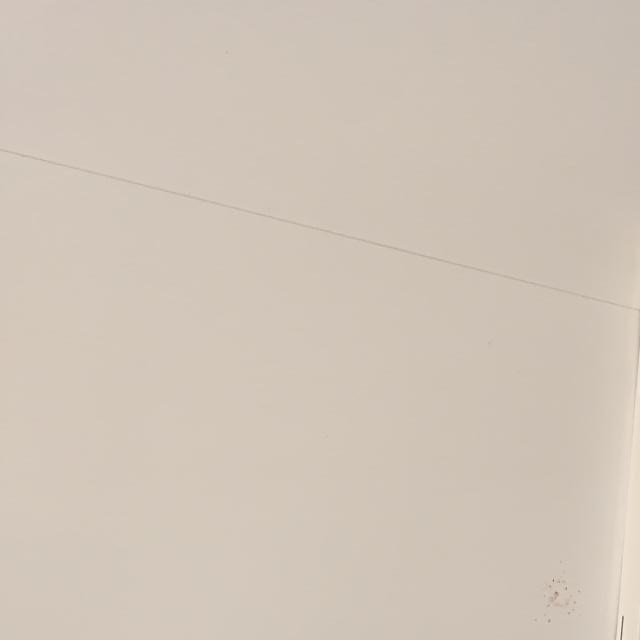fluorescent tube: (550, 200, 640, 640)
